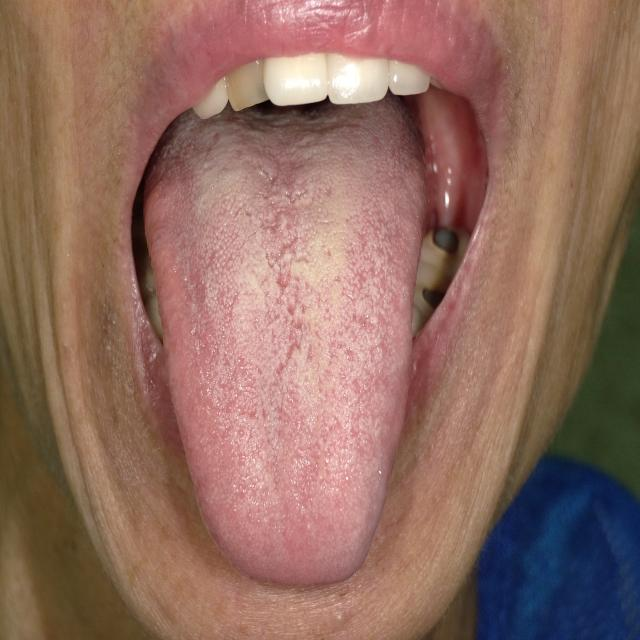baitaishe: (145, 98, 427, 588)
liewenshe: (259, 164, 309, 380)
shoushe: (146, 98, 428, 588)
